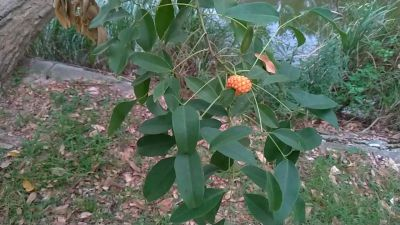eggs: (225, 71, 254, 96)
